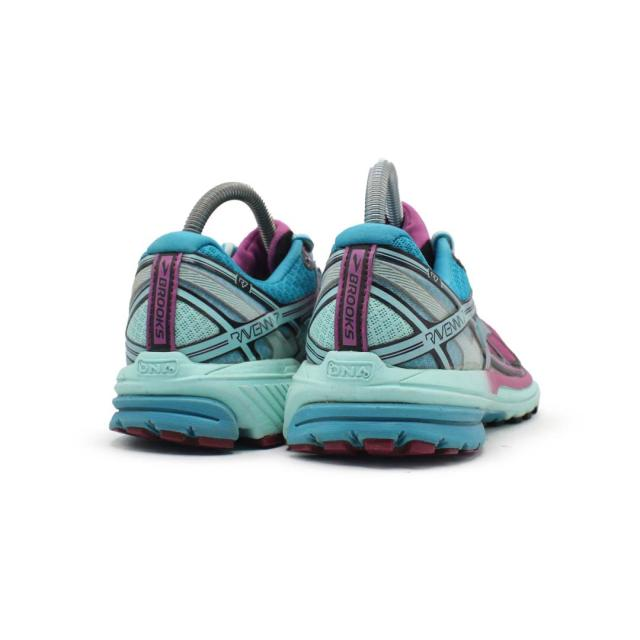heel: (306, 222, 466, 368), (123, 232, 288, 364)
midsole: (284, 352, 540, 460), (108, 354, 303, 451)
uppersole: (440, 234, 526, 370)
